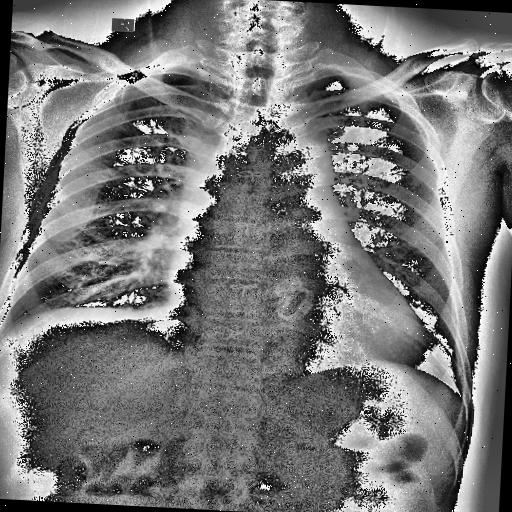0- Aortic enlargement: (270, 138, 336, 212), (260, 130, 335, 191), (261, 134, 332, 184)
3- Cardiomegaly: (162, 262, 434, 370), (160, 274, 436, 376), (164, 266, 428, 360)
9- Other lesion: (262, 272, 328, 328)
